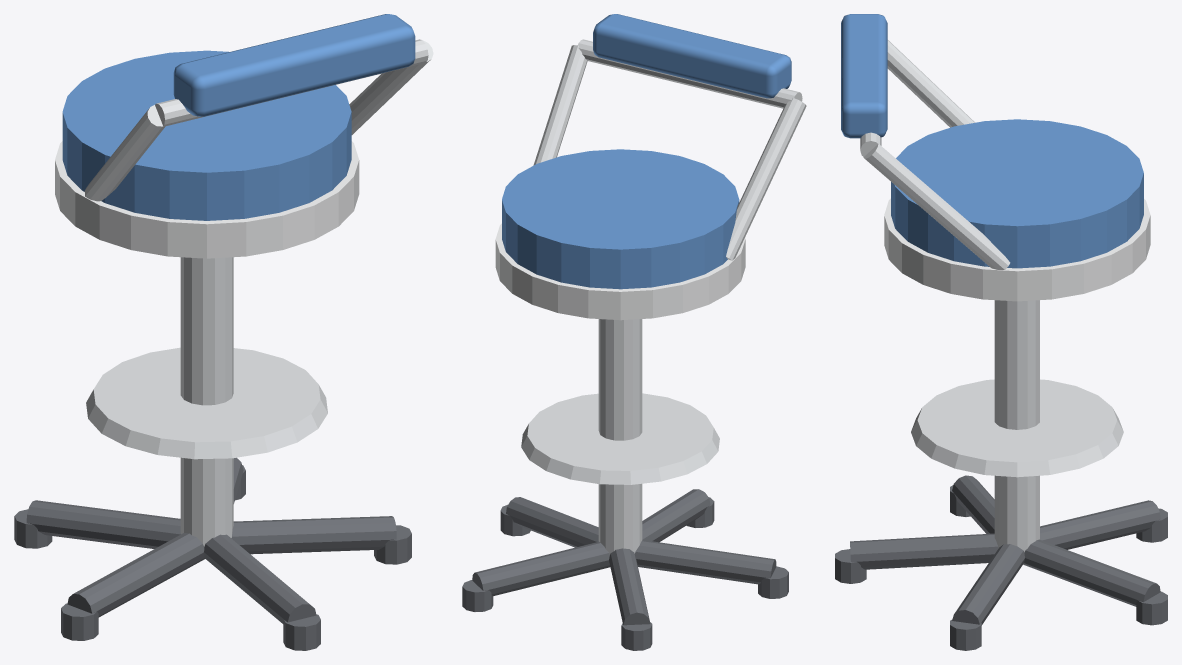
The model's file is nurse_stool.glb.
The picture shows the model from 3 angles, left to right: view 1: azimuth 30°, elevation 25°; view 2: azimuth 150°, elevation 25°; view 3: azimuth 270°, elevation 25°; orthographic projection. The views are drawn at different scales.
Visible parts, largest first — view 1: nurses-stool, seat/blue, seat/white, seat/steel; view 2: nurses-stool, seat/blue, seat/white, seat/steel; view 3: nurses-stool, seat/blue, seat/white, seat/steel.
Boxes of the visible parts, left/top/right/bottom form: nurses-stool: left=14, top=257, right=411, bottom=650; seat/blue: left=62, top=14, right=415, bottom=220; seat/white: left=55, top=141, right=359, bottom=258; seat/steel: left=84, top=39, right=433, bottom=201; nurses-stool: left=462, top=319, right=788, bottom=650; seat/blue: left=502, top=14, right=791, bottom=289; seat/white: left=495, top=223, right=745, bottom=320; seat/steel: left=533, top=39, right=806, bottom=260; nurses-stool: left=835, top=300, right=1167, bottom=650; seat/blue: left=841, top=14, right=1143, bottom=268; seat/white: left=884, top=198, right=1150, bottom=301; seat/steel: left=860, top=40, right=1010, bottom=269.
Size of the model in its own units: 0.5255 by 0.86 by 0.4998.
